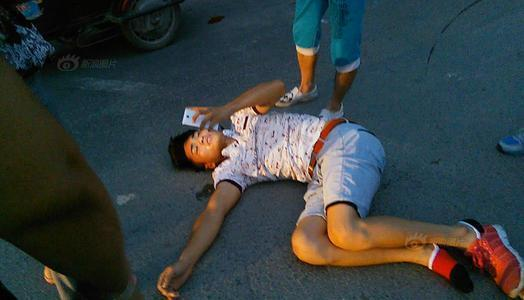Fall-Detected: (146, 95, 524, 297)
